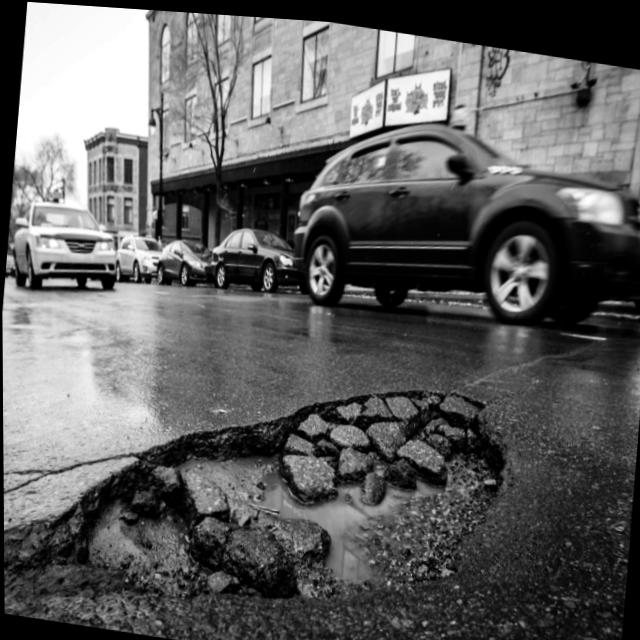pathole: (87, 383, 505, 640)
